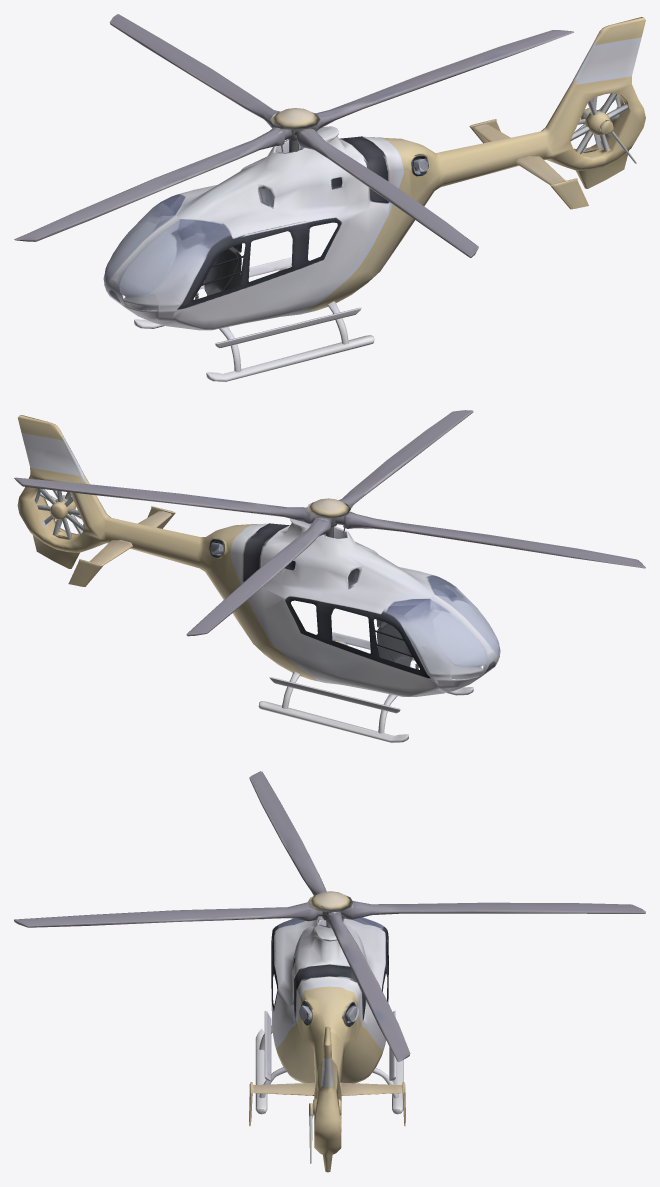
Rendered from helicoptero.glb.
3 views of the same model, one above another, from view 1: azimuth 30°, elevation 25°; view 2: azimuth 150°, elevation 25°; view 3: azimuth 270°, elevation 25° (orthographic). The views are drawn at different scales.
Parts seen in each view (by area): view 1: tripo_53d3d8f8_b762_4099_90d2_bf3882ac4c15; view 2: tripo_53d3d8f8_b762_4099_90d2_bf3882ac4c15; view 3: tripo_53d3d8f8_b762_4099_90d2_bf3882ac4c15.
Boxes of the visible parts, left/top/right/bottom form: tripo_53d3d8f8_b762_4099_90d2_bf3882ac4c15: left=14, top=14, right=645, bottom=381; tripo_53d3d8f8_b762_4099_90d2_bf3882ac4c15: left=14, top=410, right=645, bottom=742; tripo_53d3d8f8_b762_4099_90d2_bf3882ac4c15: left=14, top=771, right=645, bottom=1172.
Bounding box in the file's own units: 0.9995 × 0.3257 × 0.8745.
Materials: 1 (1 with a texture image).
